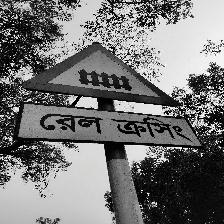Rail-crossing: (16, 35, 203, 153)
